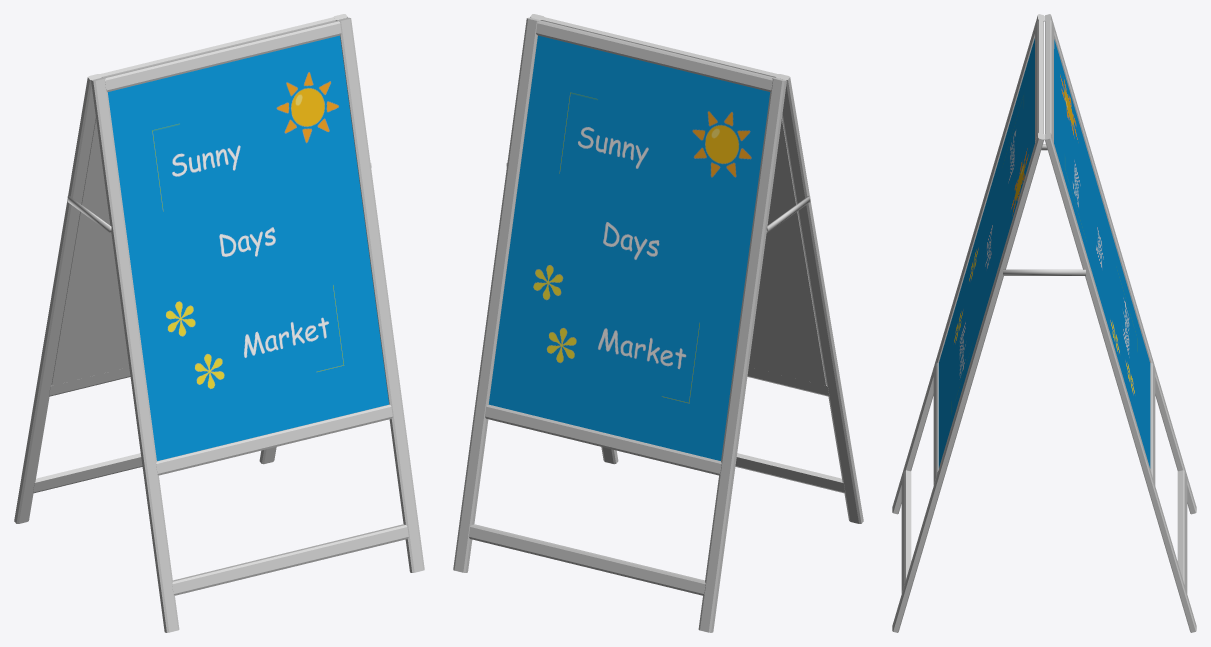
File: Advertisement_AFrameSign_01.fbx
3 views of the same model, side by side, from view 1: azimuth 30°, elevation 25°; view 2: azimuth 150°, elevation 25°; view 3: azimuth 270°, elevation 25° (orthographic).
Visible parts, largest first — view 1: Prop_Advertisement_AFrameSign_01_Mesh_LOD0; view 2: Prop_Advertisement_AFrameSign_01_Mesh_LOD0; view 3: Prop_Advertisement_AFrameSign_01_Mesh_LOD0.
Boxes of the visible parts, left/top/right/bottom form: Prop_Advertisement_AFrameSign_01_Mesh_LOD0: left=14, top=14, right=424, bottom=632; Prop_Advertisement_AFrameSign_01_Mesh_LOD0: left=453, top=14, right=863, bottom=632; Prop_Advertisement_AFrameSign_01_Mesh_LOD0: left=892, top=14, right=1196, bottom=632.
Size of what is drawn, in the model's own units: 0.6678 by 0.6794 by 1.22.
Materials: 2 (1 with a texture image).
